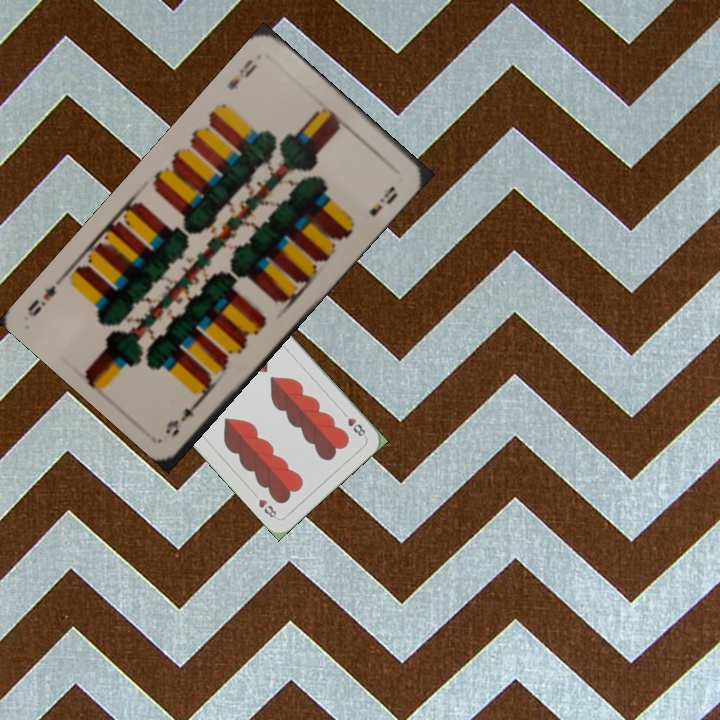E9: (161, 390, 208, 441), (223, 55, 260, 93)
H8: (337, 407, 368, 440)
